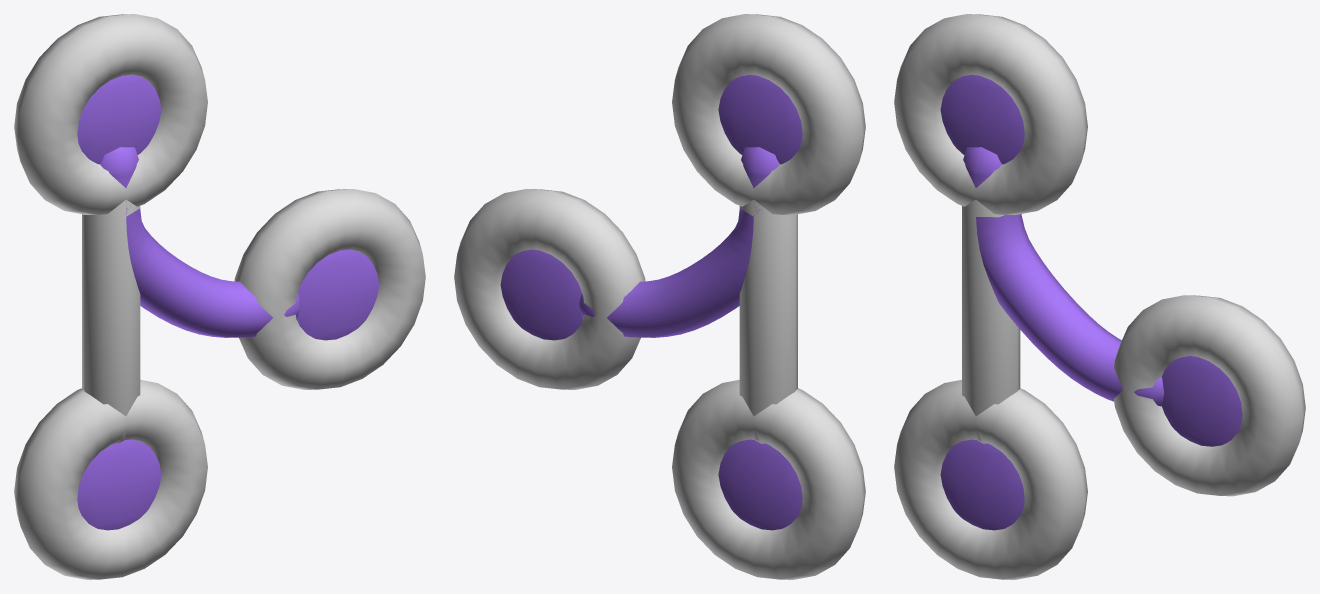
The model's file is git_pull_request_merged.glb.
The picture shows the model from 3 angles, left to right: view 1: azimuth 30°, elevation 25°; view 2: azimuth 150°, elevation 25°; view 3: azimuth 330°, elevation 25°; orthographic projection.
Parts seen in each view (by area): view 1: git_pull_request_merged; view 2: git_pull_request_merged; view 3: git_pull_request_merged.
Boxes of the visible parts, x1,y1,x2,y2 form: git_pull_request_merged: [14, 14, 425, 579]; git_pull_request_merged: [454, 14, 865, 579]; git_pull_request_merged: [894, 14, 1305, 579].
Size of the model in its own units: 0.7561 by 1 by 0.1057.
